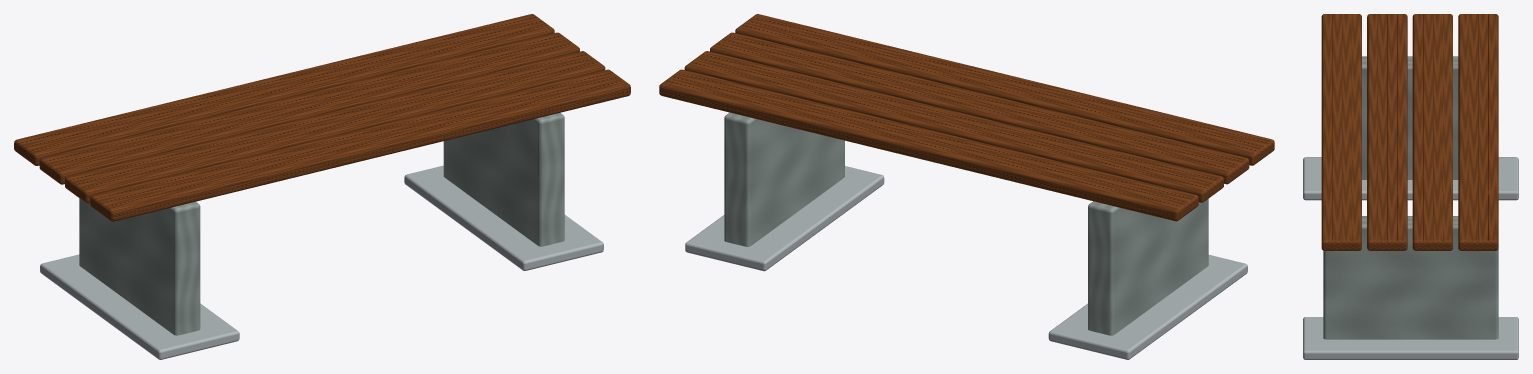
The model's file is liminal-spaces-kit-changing-bench-379f2f3f__25228.glb.
3 views of the same model, side by side, from view 1: azimuth 30°, elevation 25°; view 2: azimuth 150°, elevation 25°; view 3: azimuth 270°, elevation 25° (orthographic). The views are drawn at different scales.
Parts seen in each view (by area): view 1: changing-bench; view 2: changing-bench; view 3: changing-bench.
Part boxes in pixels (left/top/right/bottom): changing-bench: left=14, top=14, right=630, bottom=359; changing-bench: left=659, top=14, right=1274, bottom=359; changing-bench: left=1303, top=14, right=1518, bottom=359.
Bounding box in the file's own units: 1.6 × 0.445 × 0.6399.
3 materials, 2 textured.
